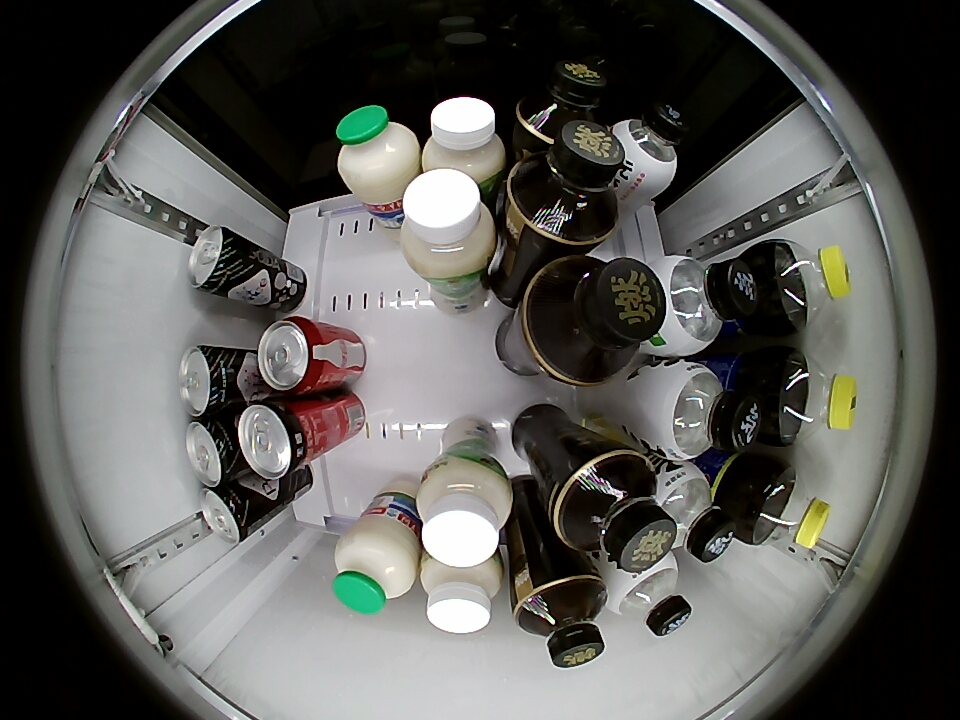baishikele: (774, 351, 858, 444), (766, 241, 851, 331), (748, 467, 832, 550)
kele: (255, 316, 327, 396)
lingdukele: (238, 399, 316, 480)
liziyuan: (336, 104, 421, 205), (333, 516, 419, 615)
qingdaowangzi-1: (178, 344, 242, 417), (185, 417, 242, 486), (187, 226, 243, 294), (198, 484, 256, 543)
rancha-1: (519, 255, 668, 385), (551, 450, 680, 571), (509, 121, 629, 246), (513, 573, 607, 669), (515, 58, 605, 148)
yousuanru: (399, 170, 503, 283), (416, 455, 514, 567), (421, 96, 507, 190), (420, 550, 504, 634)
yuanqishui: (641, 359, 762, 460), (652, 255, 758, 358), (651, 462, 736, 563), (609, 100, 688, 192), (605, 555, 693, 636)
